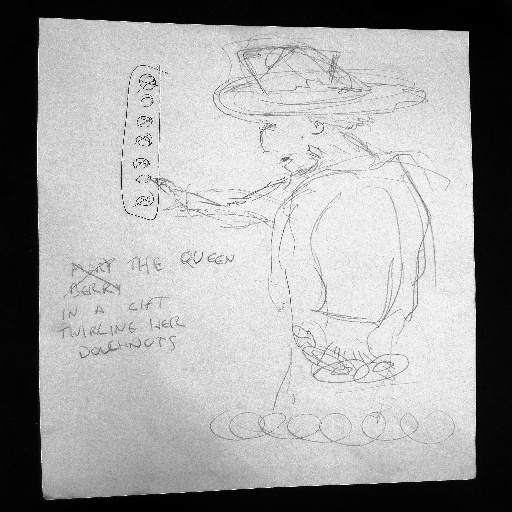hand: (291, 319, 395, 380)
